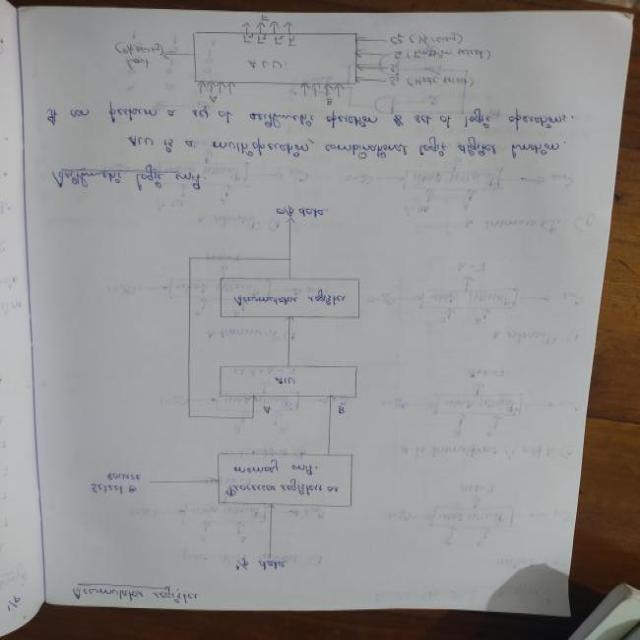Figure Detection - v3 Dataset Version2: (72, 200, 365, 576)
